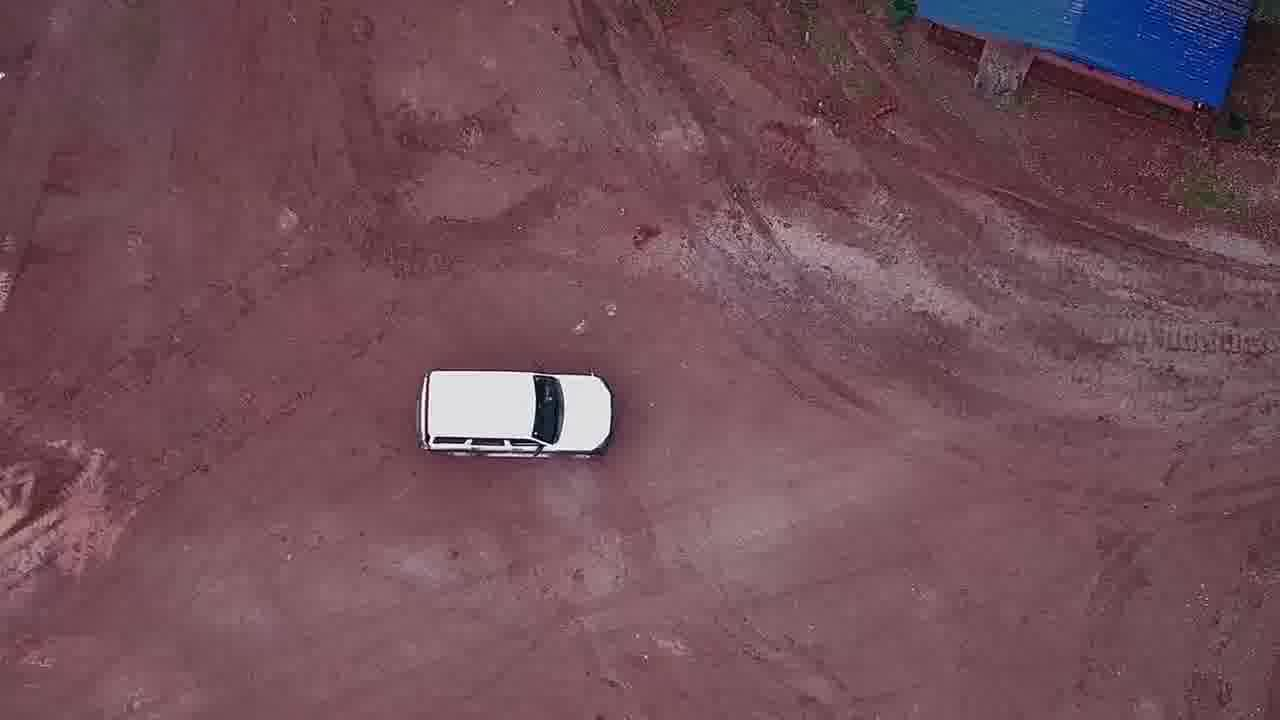light_motor_vehicle: (412, 365, 618, 464)
